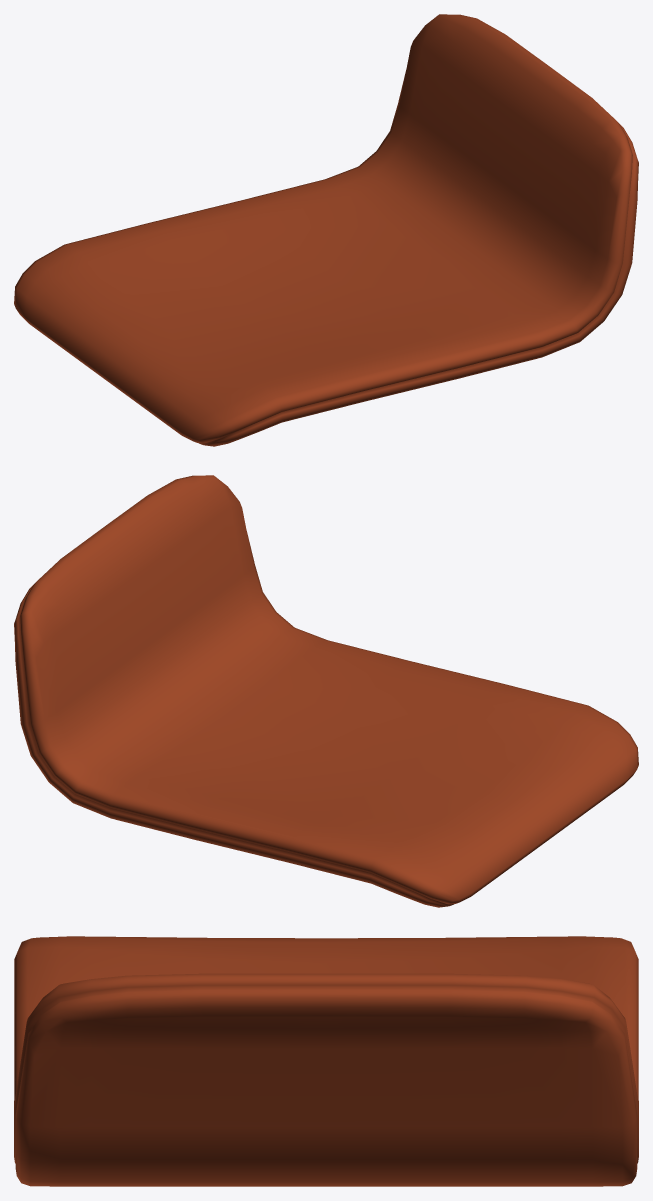
Rendered from bar_chair.fbx.
The picture shows the model from 3 angles, top to bottom: view 1: azimuth 30°, elevation 25°; view 2: azimuth 150°, elevation 25°; view 3: azimuth 270°, elevation 25°; orthographic projection. The views are drawn at different scales.
Parts seen in each view (by area): view 1: Plane.159; view 2: Plane.159; view 3: Plane.159.
Boxes of the visible parts, box(x1,y1,x2,y2) form: Plane.159: box(14, 14, 638, 446); Plane.159: box(14, 475, 638, 907); Plane.159: box(14, 936, 638, 1186).
Size of the model in its own units: 57.54 by 25.78 by 47.92.
